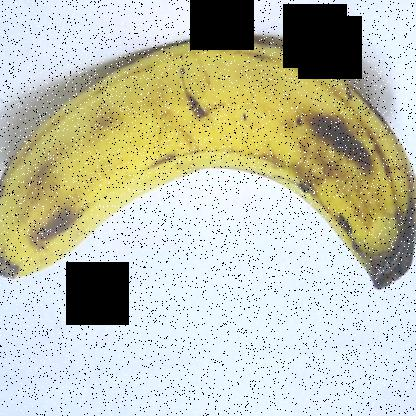ripe: (0, 30, 415, 324)
